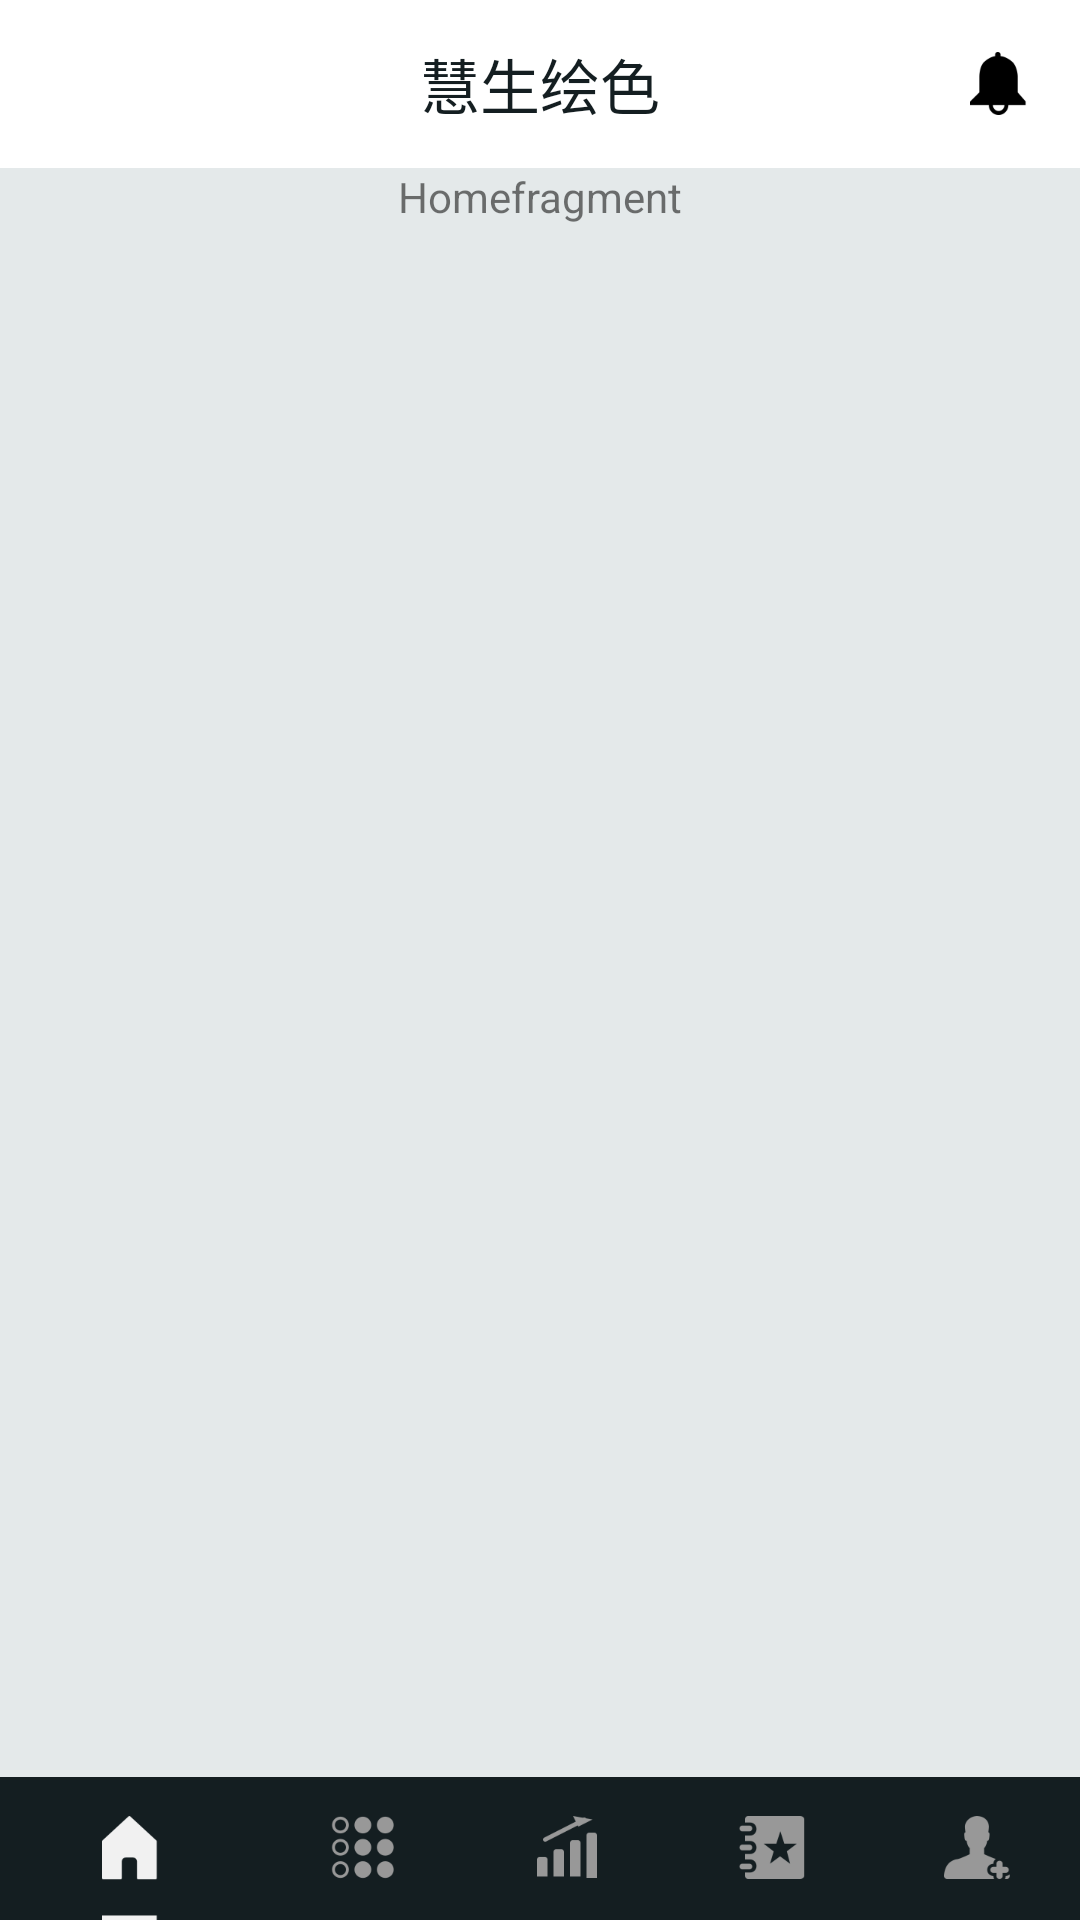

Icons on this 1080 x 1920 Android screen, each with its box as (x1,y1,x2,y2):
notify: (970,52,1026,115)
